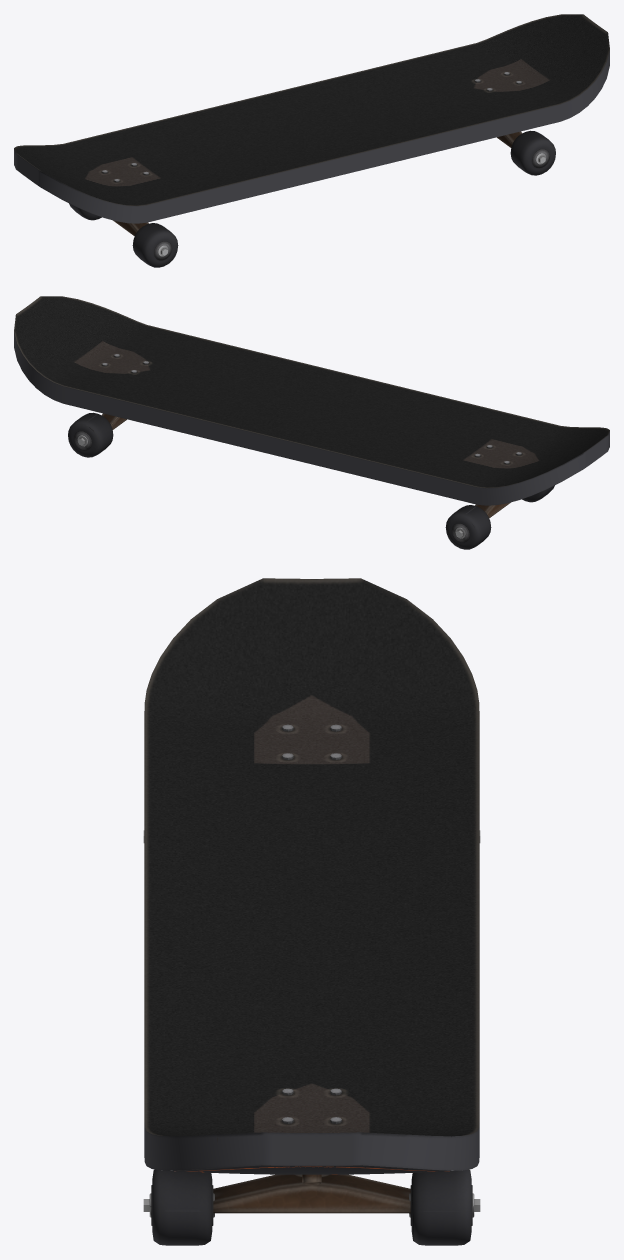
File: SkateboardWardens.fbx
The picture shows the model from 3 angles, top to bottom: view 1: azimuth 30°, elevation 25°; view 2: azimuth 150°, elevation 25°; view 3: azimuth 270°, elevation 25°; orthographic projection. The views are drawn at different scales.
Visible parts, largest first — view 1: SkateboardWardens_Main, SkateboardWardens_WheelBR, SkateboardWardens_WheelFR; view 2: SkateboardWardens_Main, SkateboardWardens_WheelBL, SkateboardWardens_WheelFL; view 3: SkateboardWardens_Main, SkateboardWardens_TruckF, SkateboardWardens_WheelFL, SkateboardWardens_WheelFR.
Part boxes in pixels (box(x1,y1,x2,y2)): SkateboardWardens_Main: box(14, 14, 609, 223); SkateboardWardens_WheelBR: box(132, 223, 178, 267); SkateboardWardens_WheelFR: box(510, 130, 555, 175); SkateboardWardens_Main: box(14, 296, 609, 505); SkateboardWardens_WheelBL: box(445, 505, 491, 549); SkateboardWardens_WheelFL: box(68, 412, 113, 457); SkateboardWardens_Main: box(144, 578, 479, 1174); SkateboardWardens_TruckF: box(213, 1174, 410, 1213); SkateboardWardens_WheelFL: box(409, 1169, 480, 1245); SkateboardWardens_WheelFR: box(143, 1169, 214, 1245).
Bounding box in the file's own units: 544 × 92.43 × 140.
